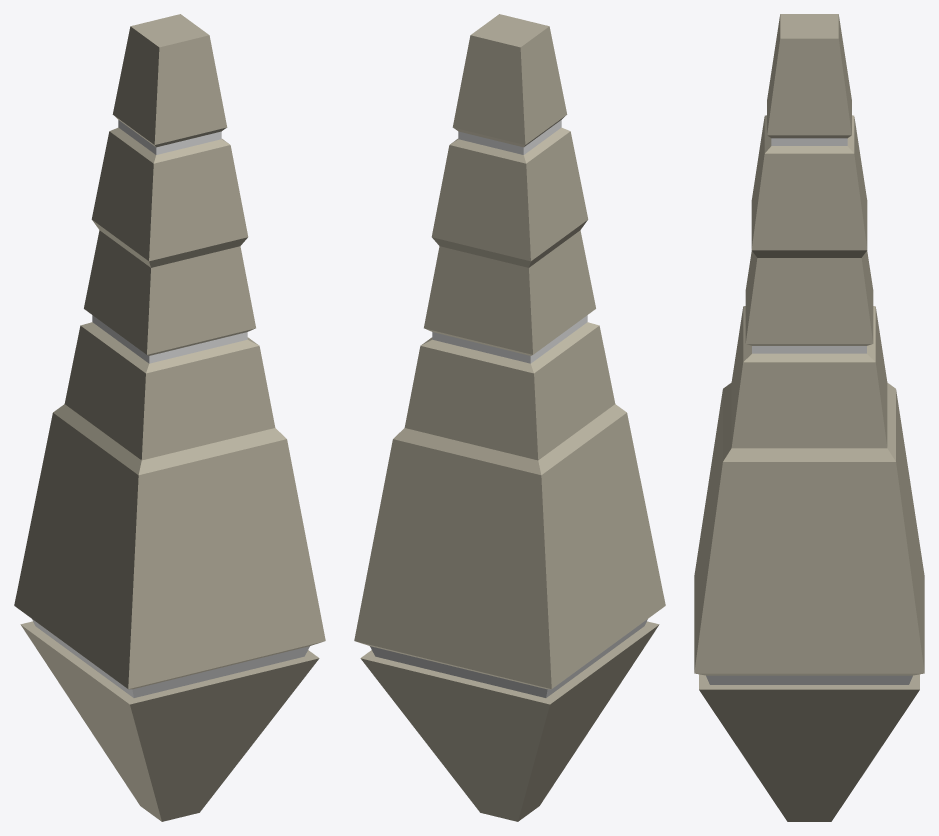
Rendered from obelisk_4.fbx.
The picture shows the model from 3 angles, left to right: view 1: azimuth 30°, elevation 25°; view 2: azimuth 150°, elevation 25°; view 3: azimuth 270°, elevation 25°; orthographic projection.
Visible parts, largest first — view 1: obelisk_4; view 2: obelisk_4; view 3: obelisk_4.
Part boxes in pixels (box(x1,y1,x2,y2)): obelisk_4: box(14, 14, 325, 821); obelisk_4: box(354, 14, 665, 821); obelisk_4: box(694, 14, 924, 821).
Bounding box in the file's own units: 2.39 × 9 × 2.39.
